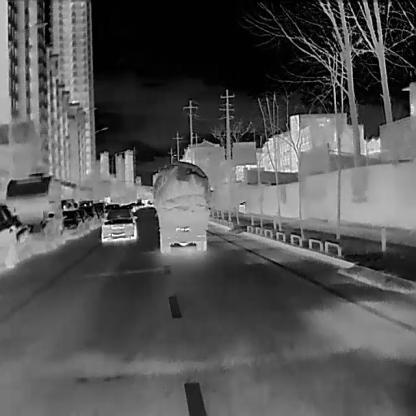car: (150, 159, 211, 254), (5, 171, 62, 253), (0, 200, 27, 268), (101, 206, 137, 242), (62, 210, 85, 239), (78, 205, 100, 228), (238, 199, 246, 212)
